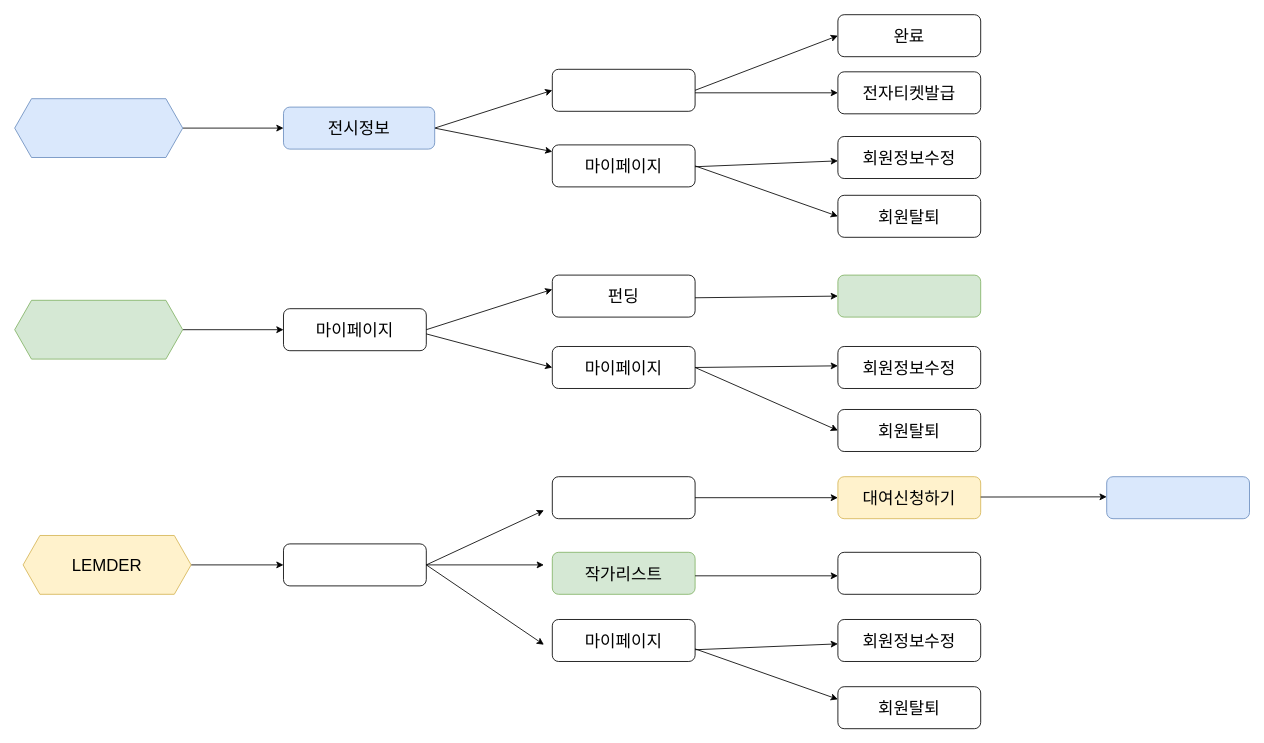
This 1264x743 diagram has some shape labels left out. Here are the shapes that lost their labels. From the top down, the centre of each, then its label:
the point at 623,89: 후원하기
the point at 98,128: COUSTOMER
the point at 909,295: 펀딩신청
the point at 98,329: ARTIST
the point at 623,497: 대여신청
the point at 1178,497: 매칭성공
the point at 354,564: 공간대여
the point at 909,572: 대여요청하기
